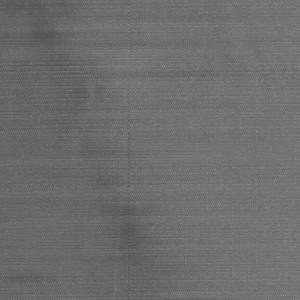Wrinkle: (24, 13, 271, 88)
